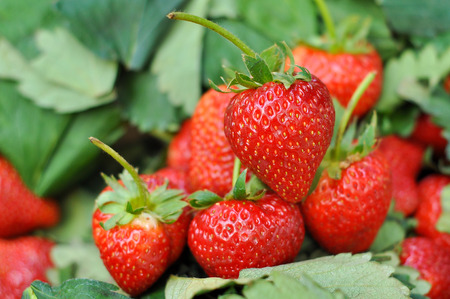ripe: (90, 169, 202, 297), (233, 69, 331, 209), (283, 27, 385, 141), (189, 192, 315, 281), (304, 141, 393, 254), (185, 72, 259, 199), (1, 156, 67, 238), (377, 120, 421, 216), (165, 115, 228, 182), (2, 234, 61, 298), (399, 234, 447, 290)
